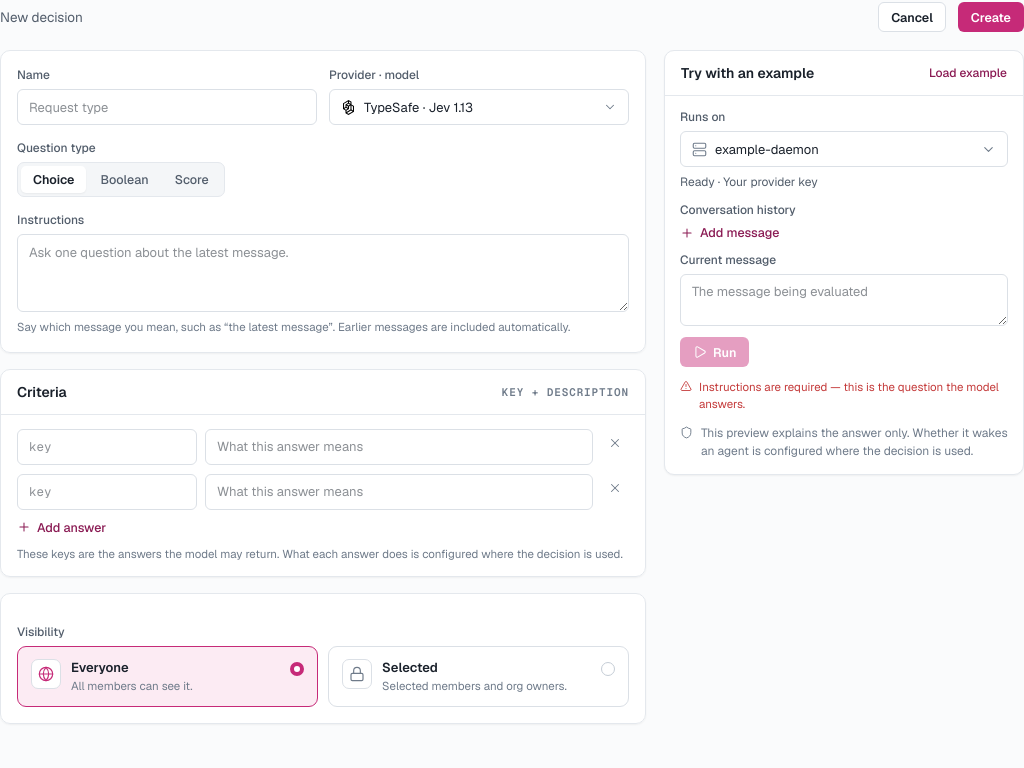
Test: DecisionEditorView › refuses to save without a question to ask
Click the button "Create". click: (991, 17)
box: [958,2,1023,32]
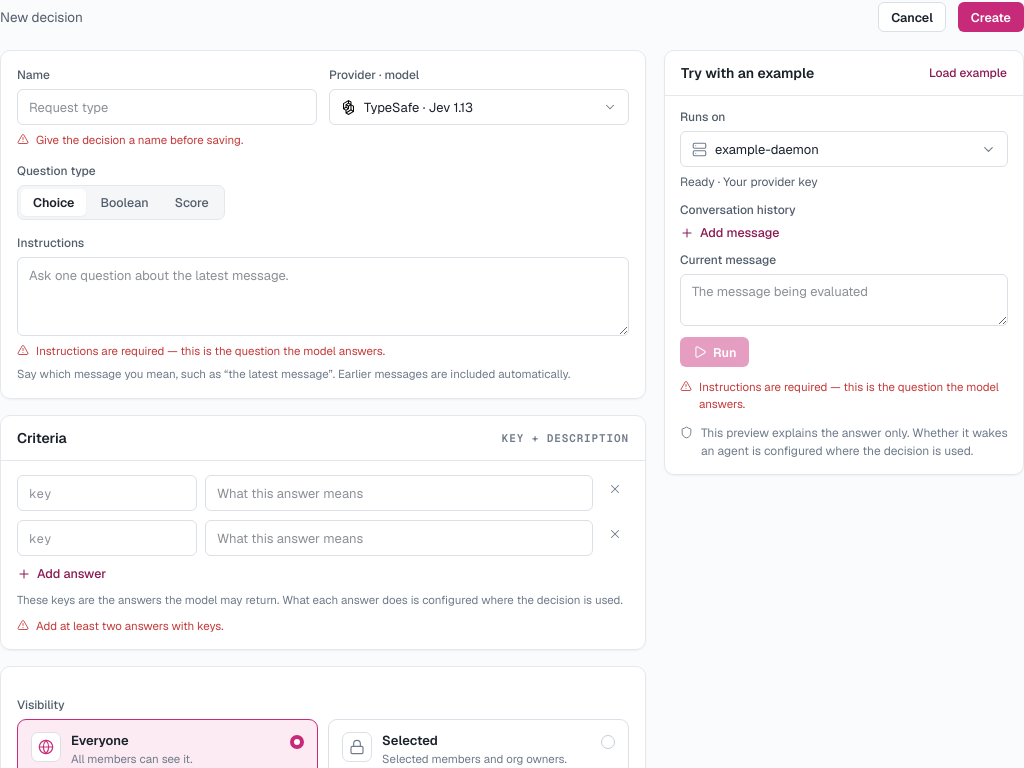
Now the element showing "Give the decision a name before saving." is shown, box [17,132,243,147]
